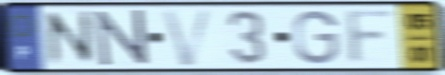3: (226, 8, 270, 68)
F: (343, 7, 399, 68)
G: (292, 8, 342, 66)
N: (93, 7, 152, 68), (42, 7, 99, 69)
V: (158, 7, 217, 69)
